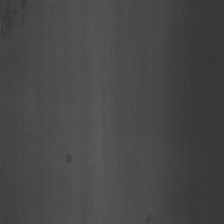oil_spot: (63, 147, 75, 168)
